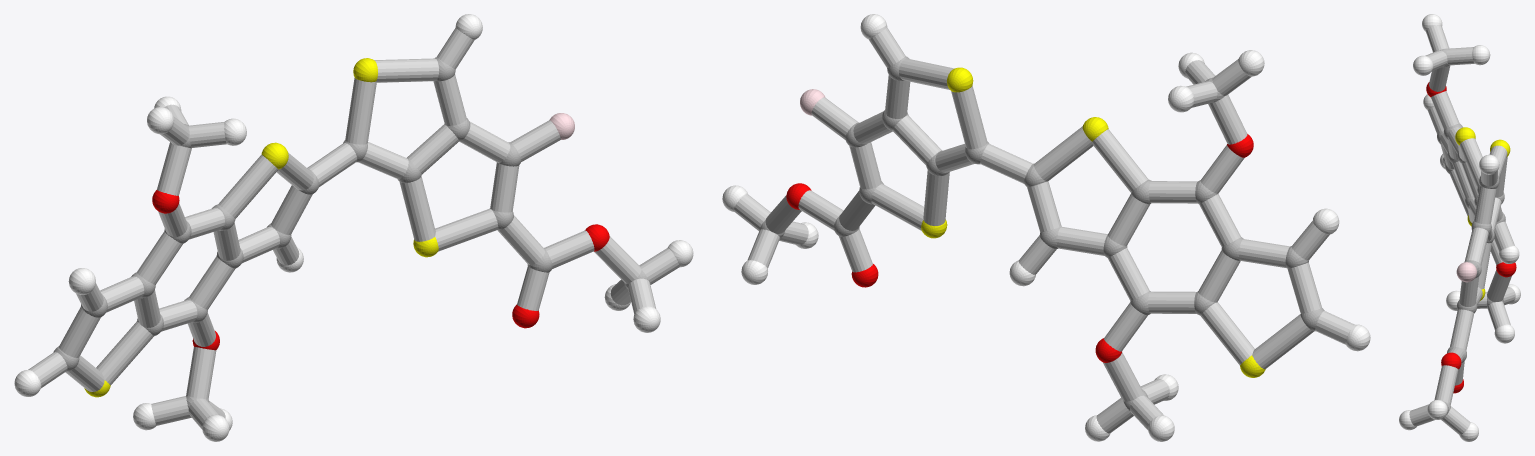
Rendered from Dimethoxy_Benzodithiophene_Phi_15_Theta_150_Methylcarbonyl_3_Fluoro_Thienothiophene.glb.
3 views of the same model, side by side, from view 1: azimuth 30°, elevation 25°; view 2: azimuth 150°, elevation 25°; view 3: azimuth 270°, elevation 25° (orthographic). The views are drawn at different scales.
Visible parts, largest first — view 1: grp15205, grp8689, grp1, grp7241, grp13395; view 2: grp15205, grp8689, grp1, grp7241, grp13395; view 3: grp15205, grp8689, grp1, grp13395, grp7241, grp14843.
Part boxes in pixels (x1,y1,x2,y2): grp15205: (28,28,679,429); grp8689: (14,14,693,441); grp1: (53,57,648,417); grp7241: (84,58,438,397); grp13395: (152,190,609,350); grp15205: (734,28,1354,433); grp8689: (722,14,1370,441); grp1: (759,56,1324,411); grp7241: (921,67,1265,377); grp13395: (786,134,1253,362); grp15205: (1409,25,1515,434); grp8689: (1399,14,1520,441); grp1: (1437,48,1505,411); grp13395: (1426,82,1516,393); grp7241: (1455,127,1510,300); grp14843: (1456,262,1476,282).
Bounding box in the file's own units: 16.87 × 9.38 × 3.59.
